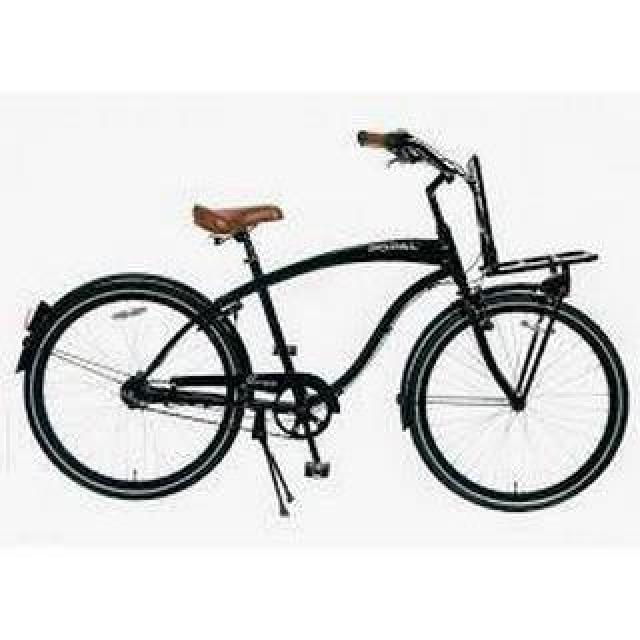Person: (15, 123, 633, 517)
